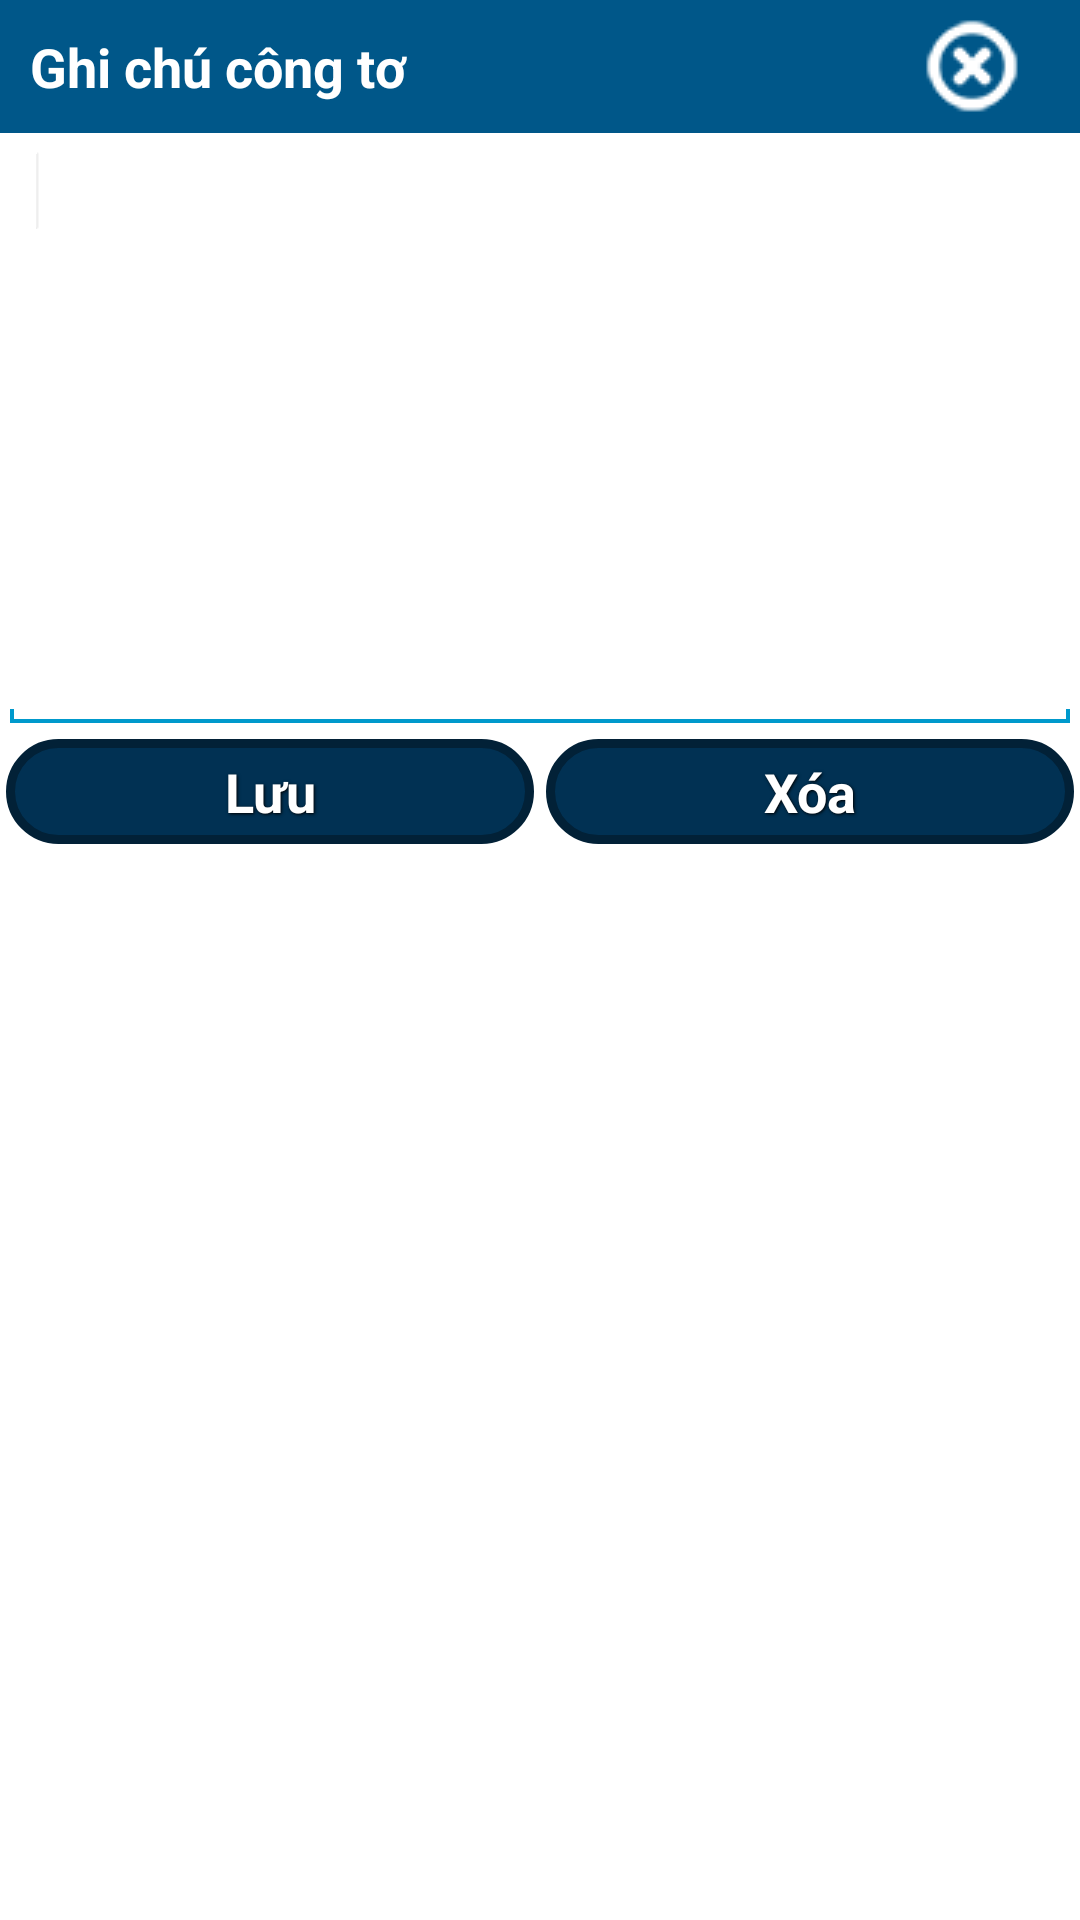

Locate icon controls on the screen. Image size 1080 x 1920, boxes as {"left": x1, "top": y1, "right": x2, "bottom": y2}.
gcs close: {"left": 926, "top": 20, "right": 1018, "bottom": 112}
